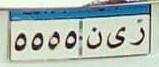5: (30, 30, 45, 53), (13, 30, 27, 54), (46, 30, 61, 52), (64, 30, 77, 51)
noon: (86, 24, 103, 52)
raa: (129, 26, 146, 48)
yaa: (104, 27, 127, 50)
